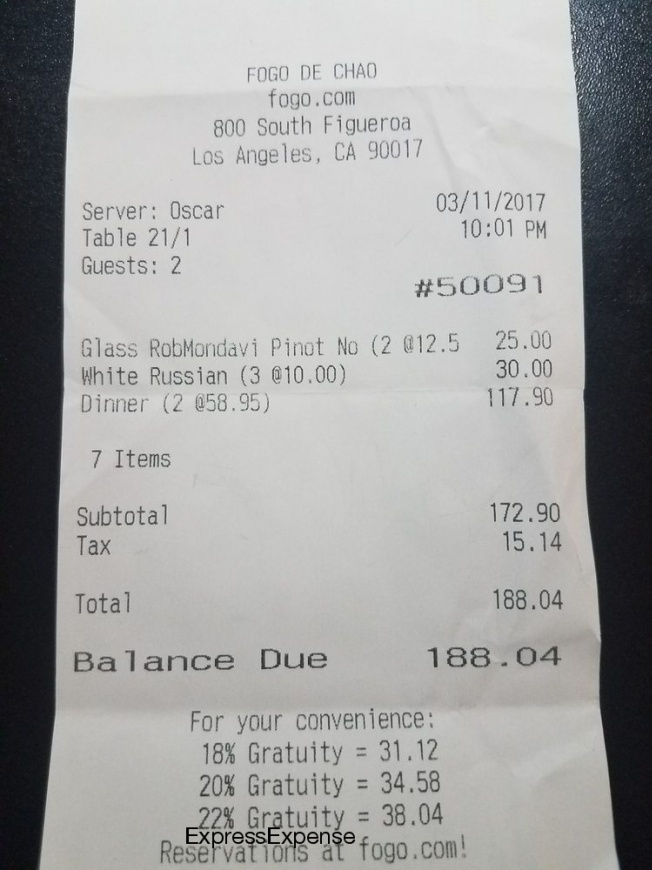Additional details: (156, 703, 468, 868)
Purchase summary: (64, 178, 602, 692)
Receipt: (43, 1, 611, 870)
Shop details: (182, 41, 436, 180)
